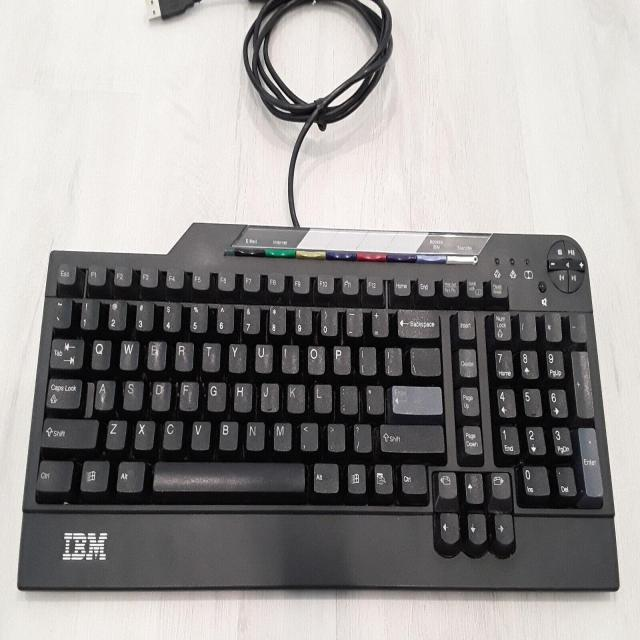keyboard: (14, 250, 619, 588)
